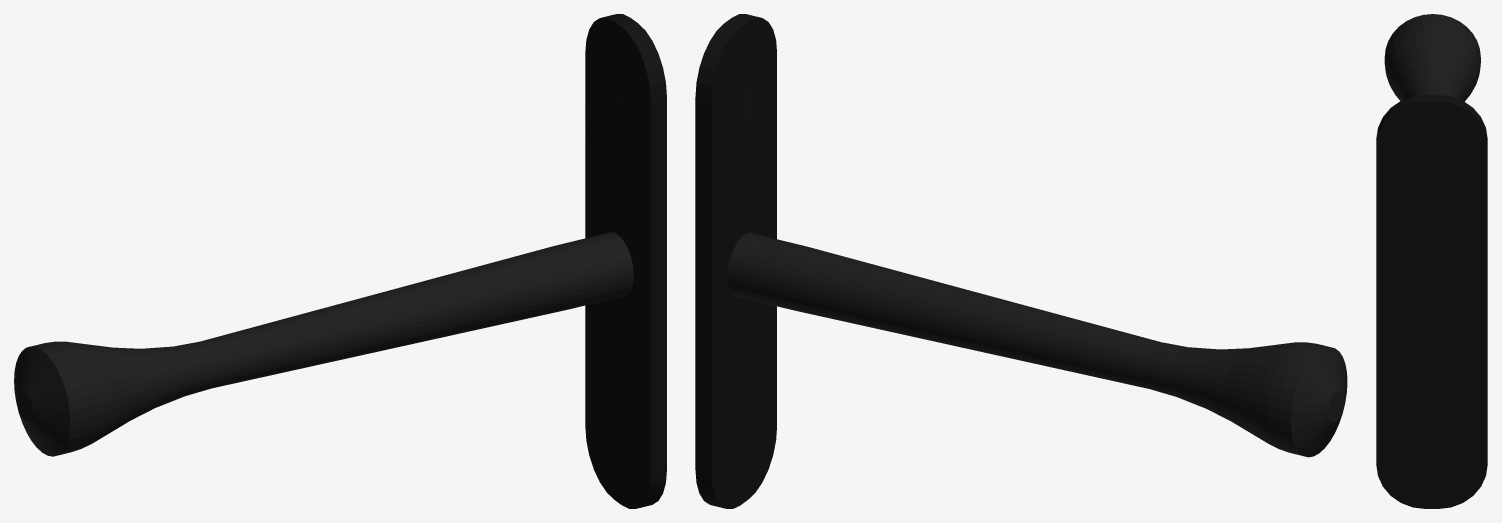
The model's file is StoneSword_Handle.fbx.
The picture shows the model from 3 angles, left to right: view 1: azimuth 30°, elevation 25°; view 2: azimuth 150°, elevation 25°; view 3: azimuth 270°, elevation 25°; orthographic projection. The views are drawn at different scales.
Parts seen in each view (by area): view 1: Handle; view 2: Handle; view 3: Handle.
Part boxes in pixels (left/top/right/bottom): Handle: left=14, top=14, right=666, bottom=508; Handle: left=695, top=14, right=1347, bottom=508; Handle: left=1376, top=14, right=1487, bottom=508.
Bounding box in the file's own units: 2.41 × 1.81 × 0.449.
1 material, 1 textured.
